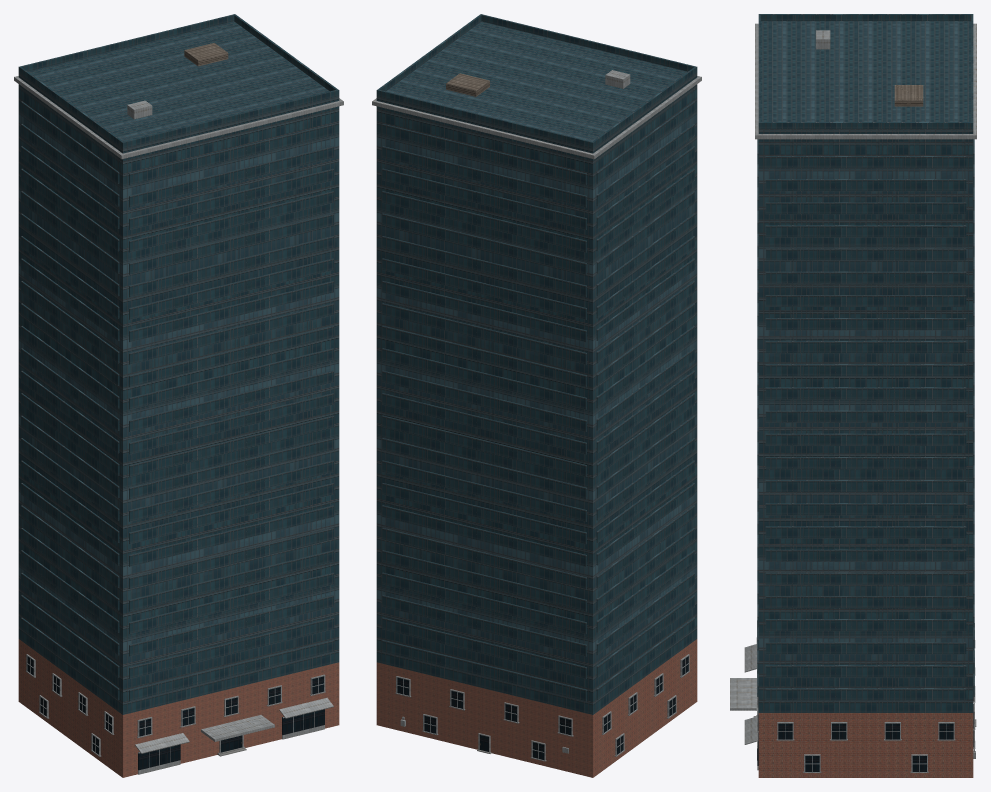
File: woodward-corner-tower_lod0.gltf
3 renders of one model, left to right at view 1: azimuth 30°, elevation 25°; view 2: azimuth 150°, elevation 25°; view 3: azimuth 270°, elevation 25°, orthographic. The views are drawn at different scales.
Visible parts, largest first — view 1: woodward-corner-tower_upper, woodward-corner-tower_fen_07-glass-curtain-blue_0, woodward-corner-tower_base, woodward-corner-tower_fen_07-glass-curtain-blue_2_t, woodward-corner-tower_fen_14-steel-panel_1, woodward-corner-tower__cornice, woodward-corner-tower__parapet_front, woodward-corner-tower__parapet_back, woodward-corner-tower__canopy, woodward-corner-tower__parapet_left, woodward-corner-tower__parapet_right, woodward-corner-tower__terrace (+2 smaller); view 2: woodward-corner-tower_upper, woodward-corner-tower_fen_07-glass-curtain-blue_0, woodward-corner-tower_base, woodward-corner-tower__cornice, woodward-corner-tower_fen_07-glass-curtain-blue_2_t, woodward-corner-tower_fen_14-steel-panel_1, woodward-corner-tower__parapet_back, woodward-corner-tower__parapet_front, woodward-corner-tower__parapet_left, woodward-corner-tower__parapet_right, woodward-corner-tower__terrace; view 3: woodward-corner-tower_upper, woodward-corner-tower_fen_07-glass-curtain-blue_0, woodward-corner-tower_base, woodward-corner-tower__cornice, woodward-corner-tower__parapet_left, woodward-corner-tower__parapet_right, woodward-corner-tower_fen_07-glass-curtain-blue_2_t, woodward-corner-tower_fen_14-steel-panel_1, woodward-corner-tower__canopy, woodward-corner-tower__terrace.
Boxes of the visible parts, x1,y1,x2,y2 form: woodward-corner-tower_upper: [18, 21, 339, 714]; woodward-corner-tower_fen_07-glass-curtain-blue_0: [21, 101, 333, 701]; woodward-corner-tower_base: [18, 639, 339, 777]; woodward-corner-tower_fen_07-glass-curtain-blue_2_t: [27, 656, 324, 770]; woodward-corner-tower_fen_14-steel-panel_1: [26, 654, 325, 774]; woodward-corner-tower__cornice: [14, 76, 343, 159]; woodward-corner-tower__parapet_front: [122, 89, 339, 148]; woodward-corner-tower__parapet_back: [18, 14, 235, 73]; woodward-corner-tower__canopy: [201, 715, 274, 741]; woodward-corner-tower__parapet_left: [20, 67, 123, 148]; woodward-corner-tower__parapet_right: [234, 15, 337, 91]; woodward-corner-tower__terrace: [184, 43, 228, 66]; woodward-corner-tower_upper: [376, 21, 697, 714]; woodward-corner-tower_fen_07-glass-curtain-blue_0: [382, 101, 694, 701]; woodward-corner-tower_base: [376, 639, 697, 777]; woodward-corner-tower__cornice: [372, 76, 701, 159]; woodward-corner-tower_fen_07-glass-curtain-blue_2_t: [397, 656, 688, 759]; woodward-corner-tower_fen_14-steel-panel_1: [395, 654, 689, 761]; woodward-corner-tower__parapet_back: [376, 89, 593, 148]; woodward-corner-tower__parapet_front: [480, 14, 697, 73]; woodward-corner-tower__parapet_left: [592, 67, 695, 148]; woodward-corner-tower__parapet_right: [378, 15, 481, 91]; woodward-corner-tower__terrace: [446, 73, 489, 96]; woodward-corner-tower_upper: [758, 21, 973, 712]; woodward-corner-tower_fen_07-glass-curtain-blue_0: [757, 139, 974, 700]; woodward-corner-tower_base: [758, 713, 973, 777]; woodward-corner-tower__cornice: [755, 23, 976, 139]; woodward-corner-tower__parapet_left: [760, 14, 971, 21]; woodward-corner-tower__parapet_right: [760, 122, 971, 129]; woodward-corner-tower_fen_07-glass-curtain-blue_2_t: [757, 697, 973, 771]; woodward-corner-tower_fen_14-steel-panel_1: [756, 620, 975, 772]; woodward-corner-tower__canopy: [730, 678, 756, 710]; woodward-corner-tower__terrace: [894, 85, 923, 106].
Size of the model in its own units: 37 by 102 by 34.5.
